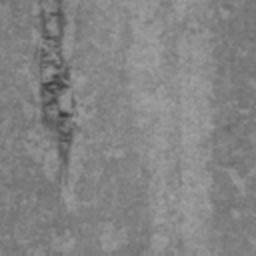Oxide scale of plate system: (40, 0, 76, 191)
